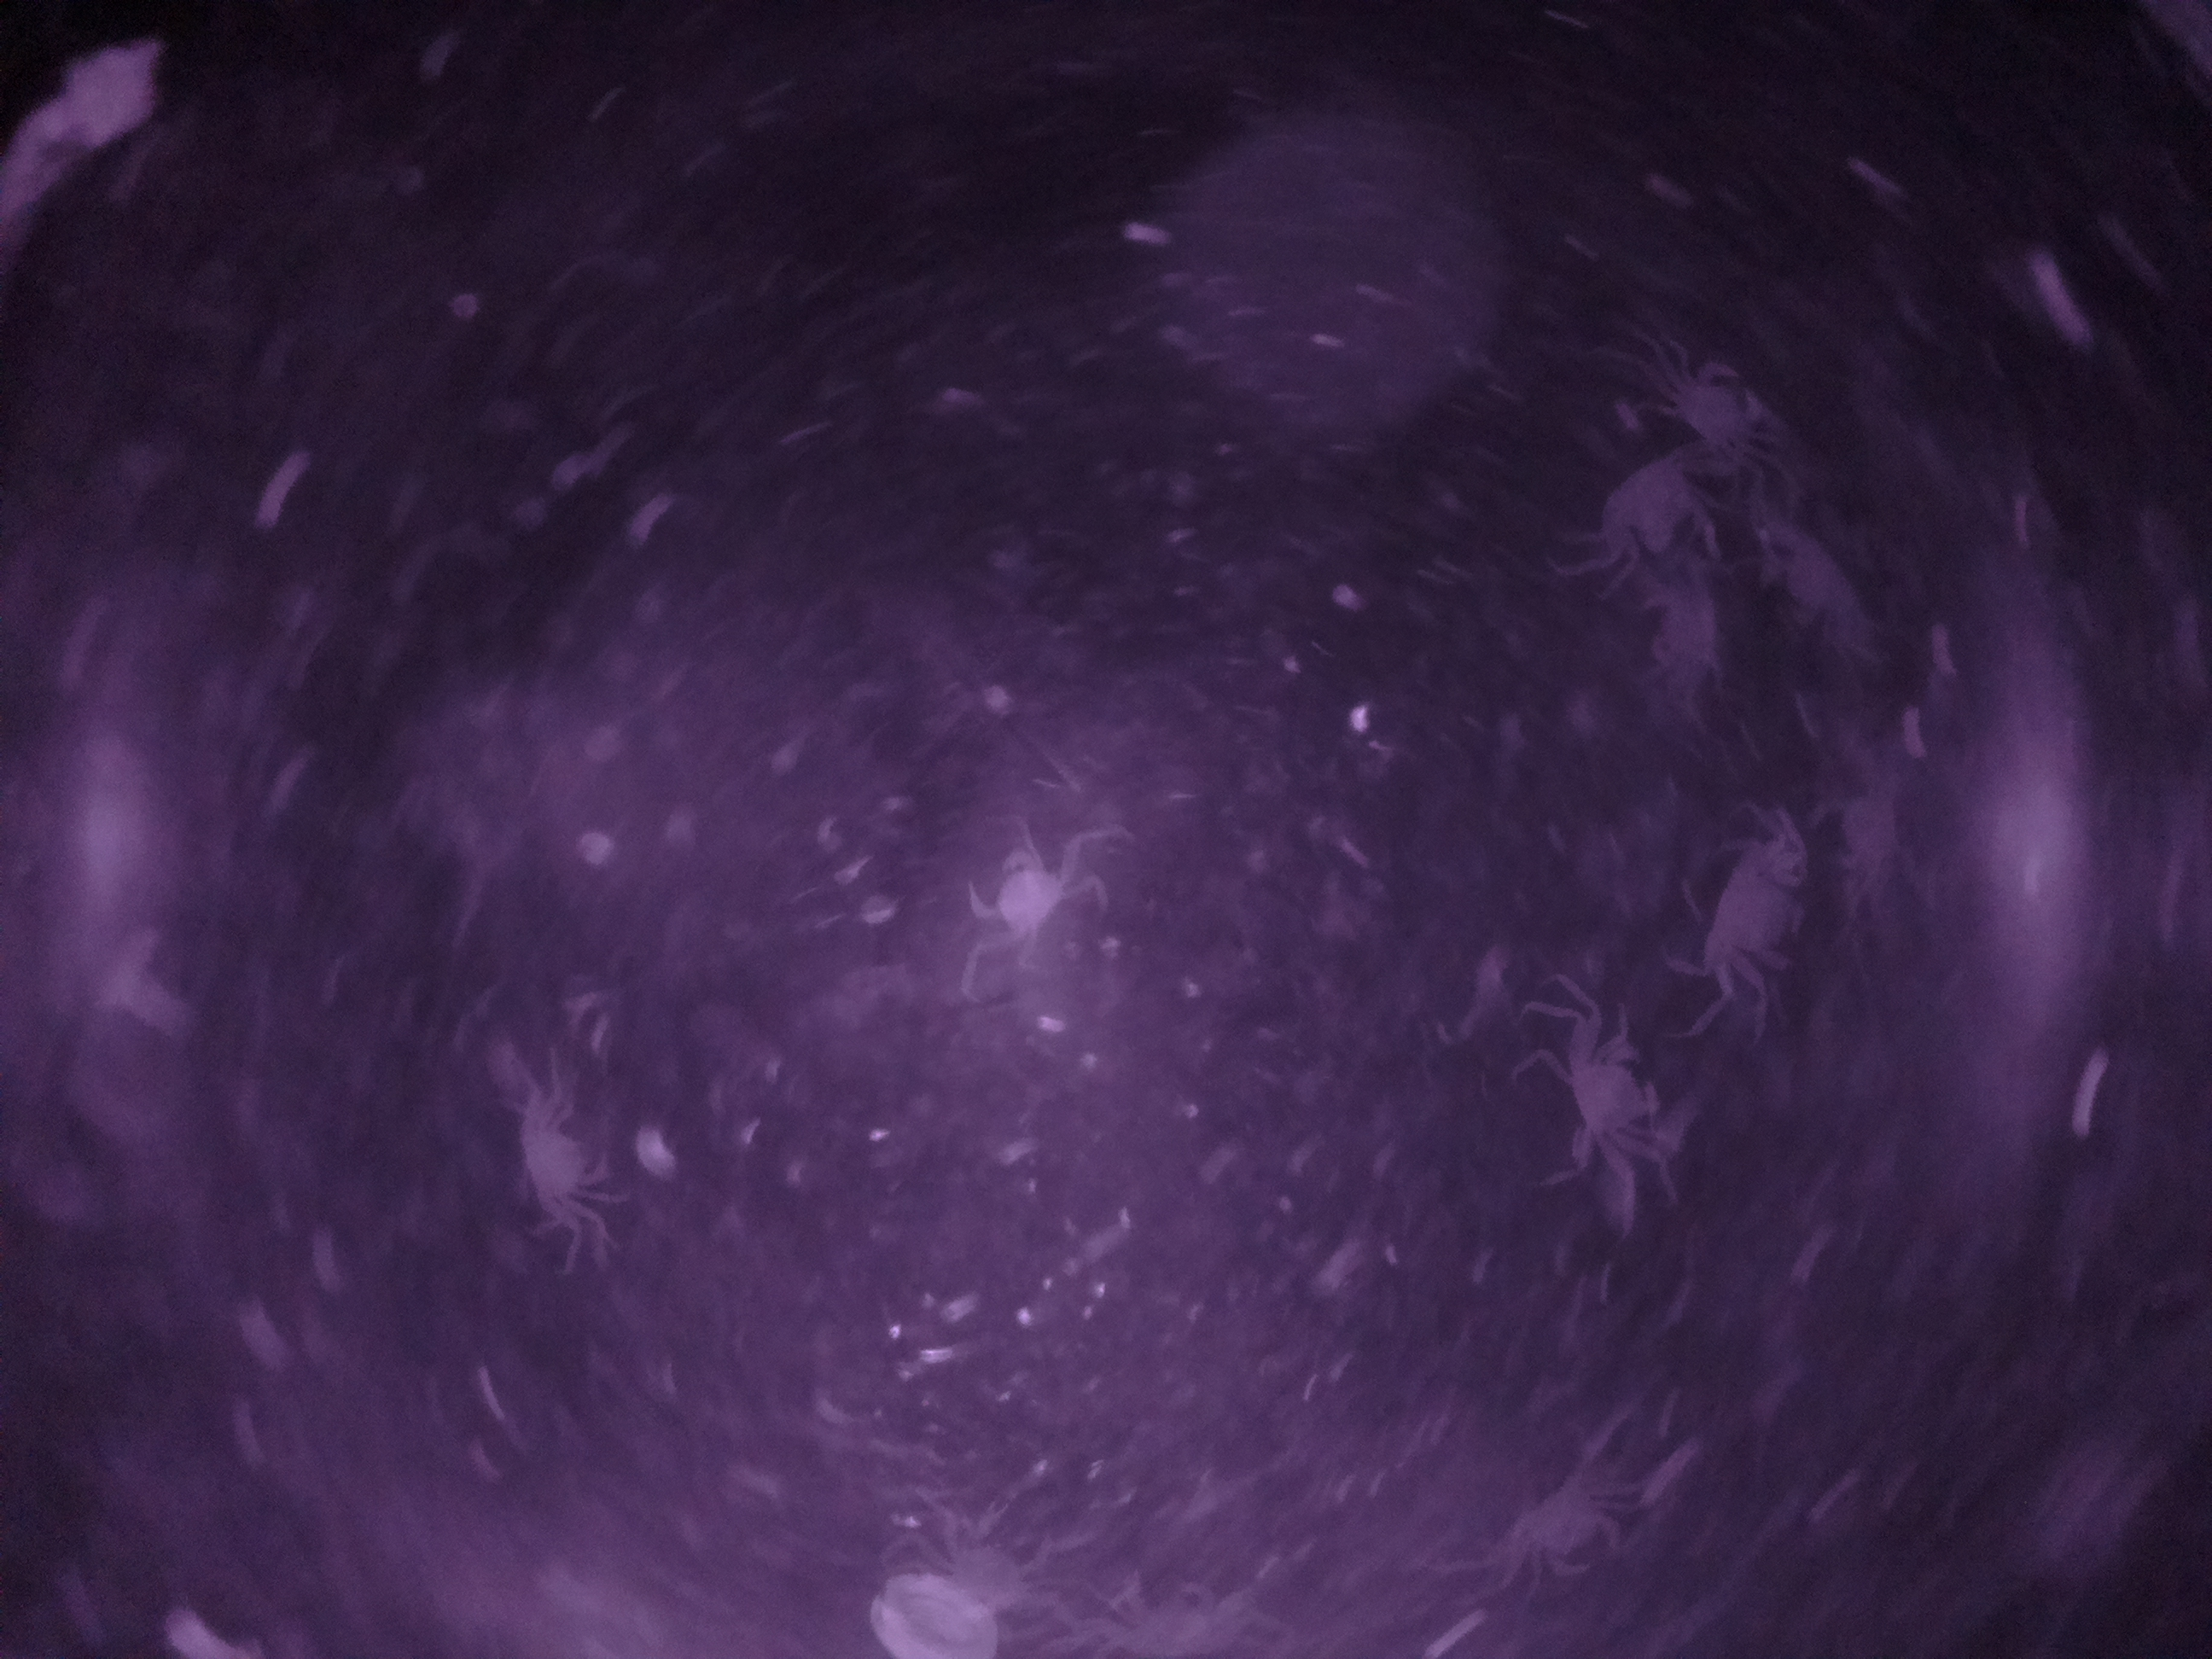Crab: (1541, 1004, 1677, 1173)
